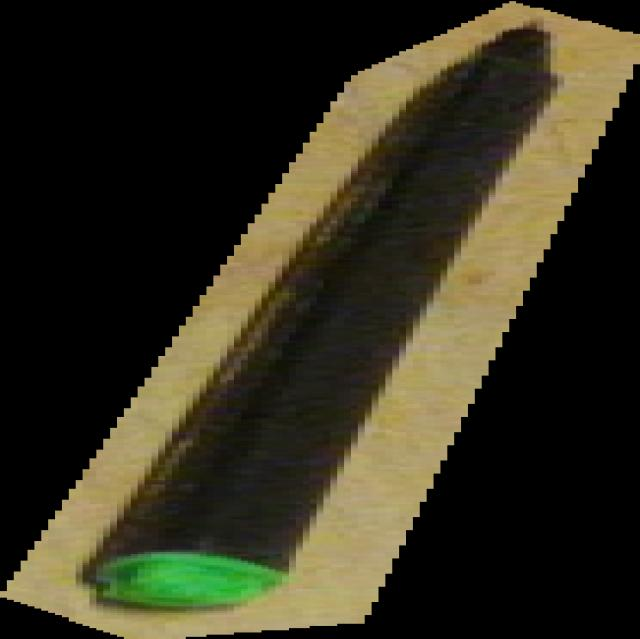green: (0, 1, 640, 639)
